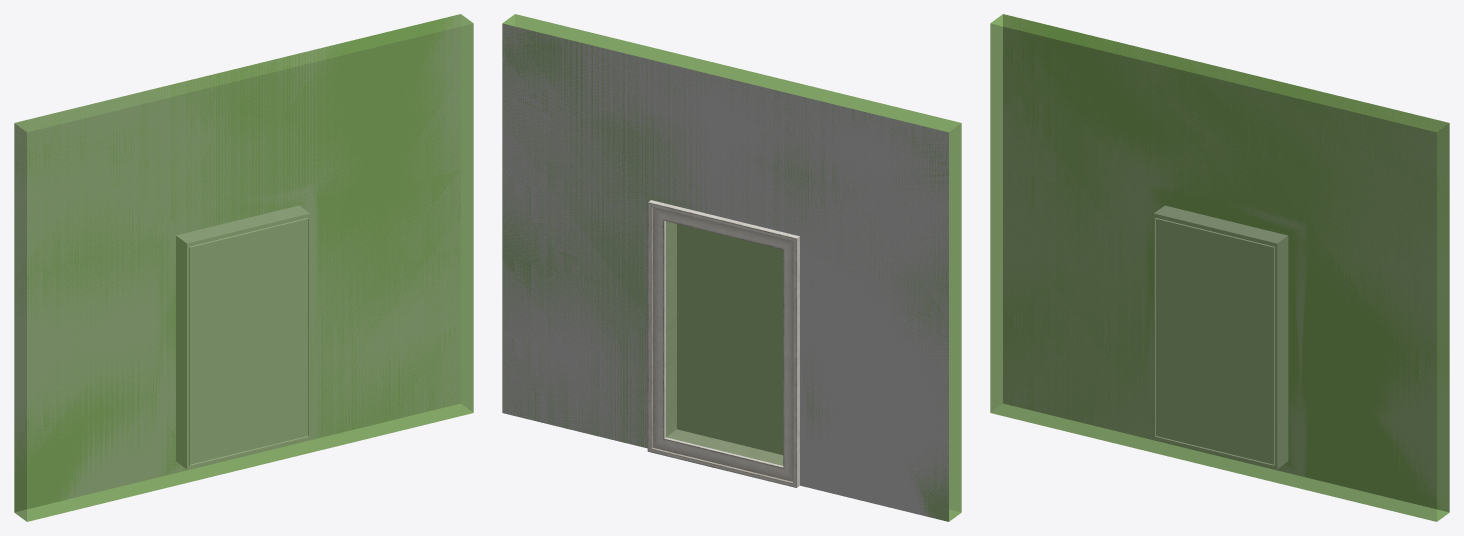
The model's file is F2_md_Wall_5x6_WL_01.fbx.
3 views of the same model, side by side, from view 1: azimuth 30°, elevation 25°; view 2: azimuth 150°, elevation 25°; view 3: azimuth 330°, elevation 25° (orthographic).
Visible parts, largest first — view 1: F2_md_Wall_5x6_WL_01_col_01, F2_md_Wall_5x6_WL_01_LOD0; view 2: F2_md_Wall_5x6_WL_01_LOD0, F2_md_Wall_5x6_WL_01_col_01; view 3: F2_md_Wall_5x6_WL_01_col_01, F2_md_Wall_5x6_WL_01_LOD0.
Part boxes in pixels (left/top/right/bottom): F2_md_Wall_5x6_WL_01_col_01: left=14, top=14, right=473, bottom=521; F2_md_Wall_5x6_WL_01_LOD0: left=14, top=14, right=460, bottom=511; F2_md_Wall_5x6_WL_01_LOD0: left=502, top=23, right=948, bottom=521; F2_md_Wall_5x6_WL_01_col_01: left=502, top=14, right=961, bottom=521; F2_md_Wall_5x6_WL_01_col_01: left=990, top=14, right=1449, bottom=521; F2_md_Wall_5x6_WL_01_LOD0: left=1003, top=14, right=1449, bottom=511.
Size of what is drawn, in the model's own units: 600 by 500 by 37.61.
